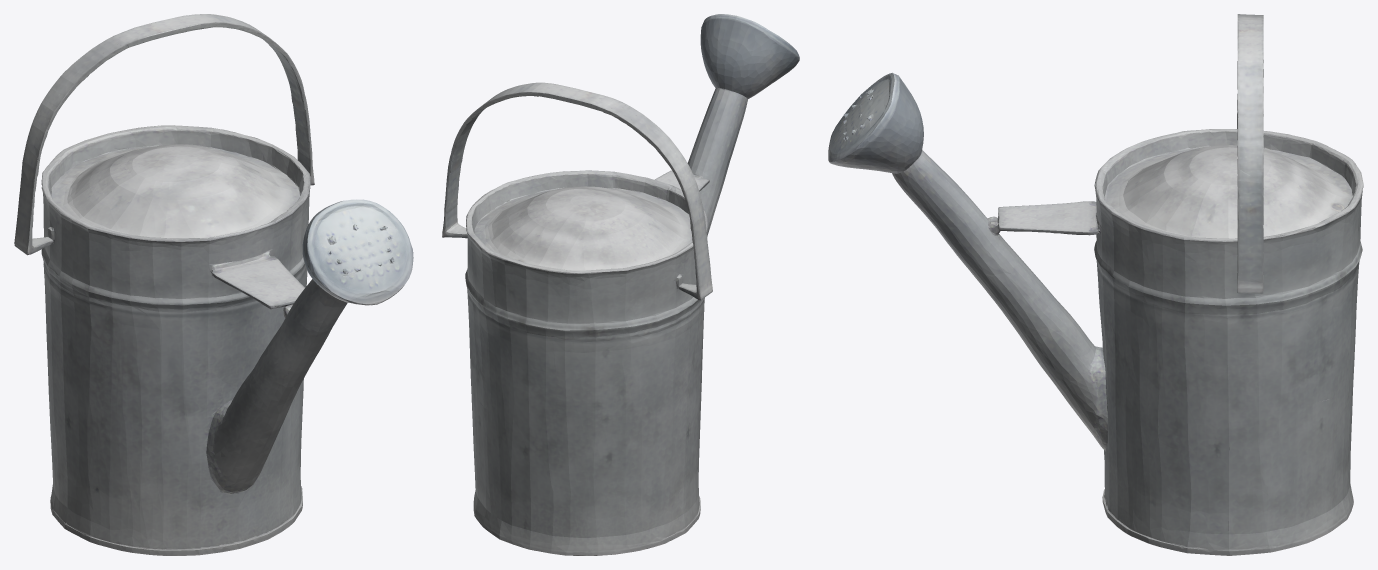
3 views of the same model, side by side, from view 1: azimuth 30°, elevation 25°; view 2: azimuth 150°, elevation 25°; view 3: azimuth 270°, elevation 25° (orthographic). The views are drawn at different scales.
Visible parts, largest first — view 1: world; view 2: world; view 3: world.
Part boxes in pixels (x1,y1,x2,y2): world: (14,14,413,555); world: (442,14,799,555); world: (828,14,1363,555).
Bounding box in the file's own units: 0.6178 × 0.9627 × 1.
Materials: 1 (1 with a texture image).
